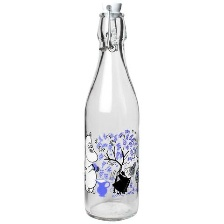bottle: (78, 0, 158, 223)
